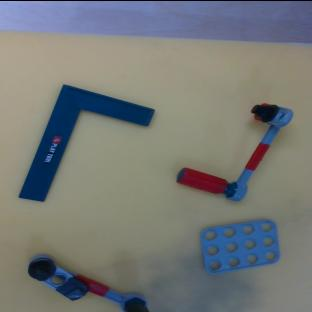non_pass: (24, 251, 155, 312)
